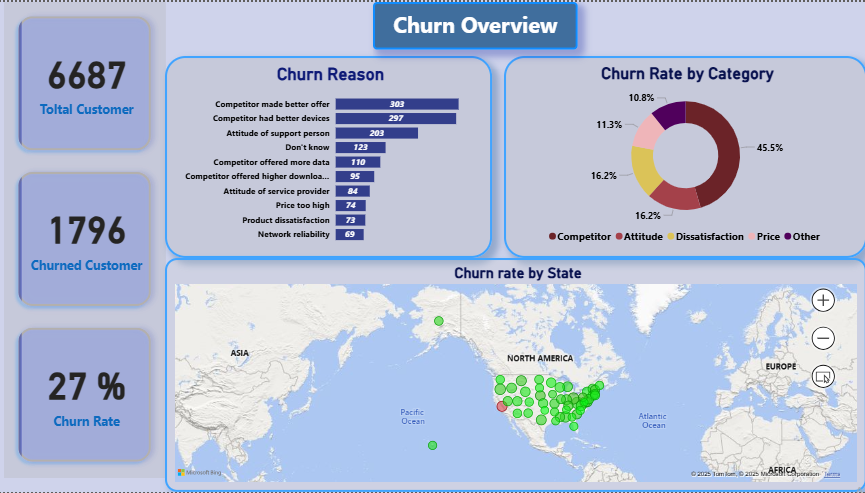

What the dashboard file says about the page in this screenshot:
{"tool":"powerbi","page":{"name":"Overview","canvas":[1280,720],"ordinal":0},"visuals":[{"type":"cardVisual","fields":{"Data":["Databel - Data.no of customer","Databel - Data.no of churned customer","Databel - Data.churn rate"]},"box":[10.1,0,237.6,699.8],"z":0},{"type":"clusteredBarChart","title":"Churn Reason","fields":{"Category":["Databel - Data.Churn Reason"],"Y":["Databel - Data.no of customer"]},"box":[247.7,79.2,481,296.6],"z":1000},{"type":"donutChart","title":"Churn Rate by Category","fields":{"Category":["Databel - Data.Churn Category"],"Y":["CountNonNull(Databel - Data.Churn Label)"]},"box":[745.9,79.2,534.2,296.6],"z":2000},{"type":"map","title":"Churn rate by State","fields":{"Category":["Databel - Data.State"],"Size":["Databel - Data.no of churned customer"]},"box":[247.7,375.8,1032.5,344.2],"z":3000},{"type":"textbox","box":[553,0,301,70],"z":4000}]}

Visuals, with their boxes in screenshot pixels (x1, y1, x2, y2), scaled from the page's 1280x720 canvas onto the 865x493 screenshot:
cardVisual - Databel - Data.no of customer x Databel - Data.no of churned customer: 7:0:167:479
"Churn Reason" clusteredBarChart: 167:54:492:257
"Churn Rate by Category" donutChart: 504:54:864:257
"Churn rate by State" map: 167:257:864:492
textbox: 374:0:577:48
